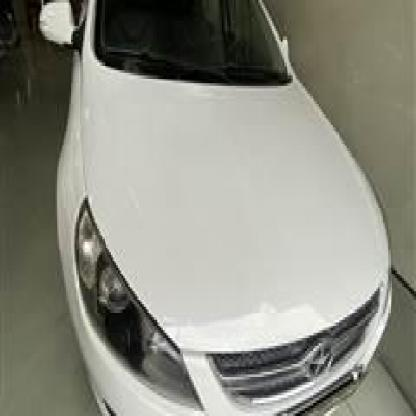Car: (35, 0, 400, 416)
